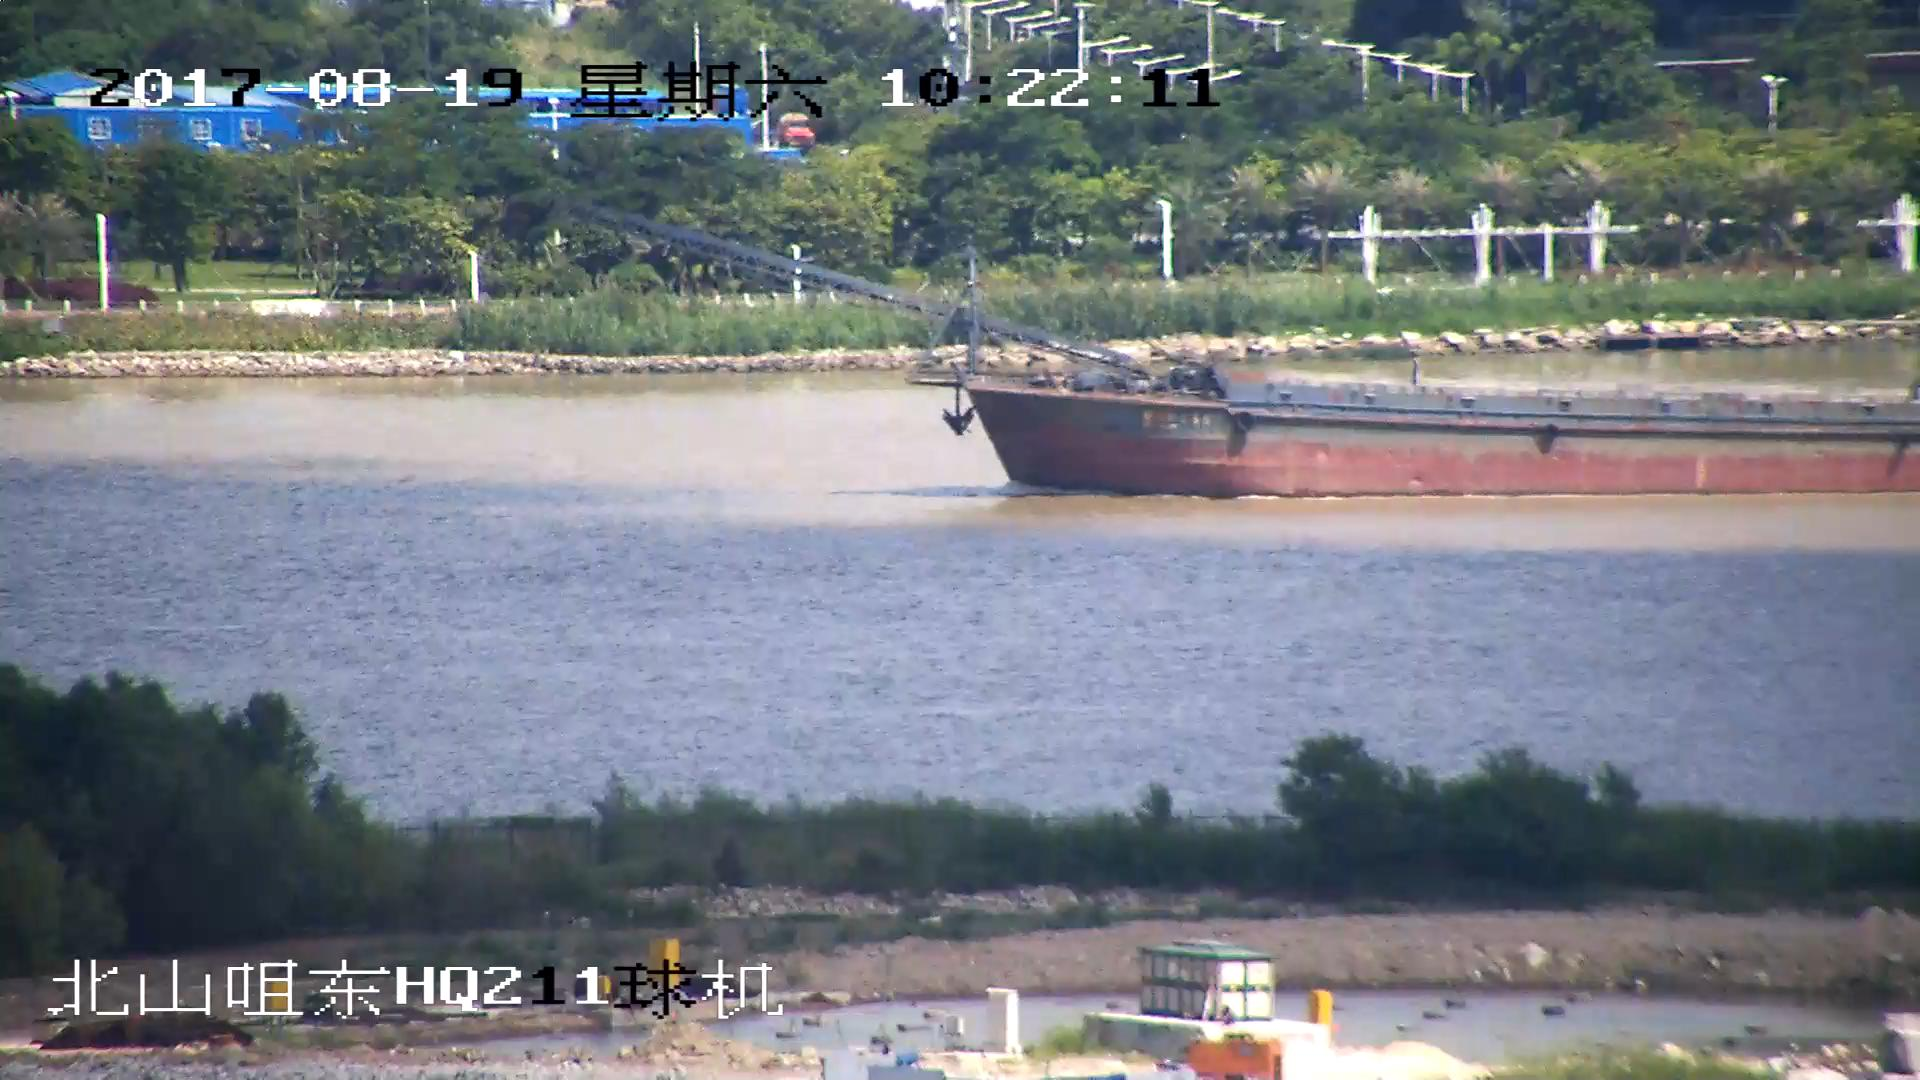bulk cargo carrier: (577, 207, 1920, 500)
